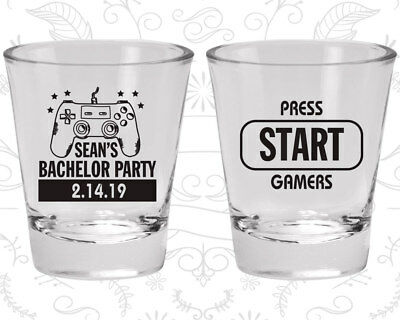plastic_glass: (203, 37, 399, 283), (1, 38, 196, 284)
